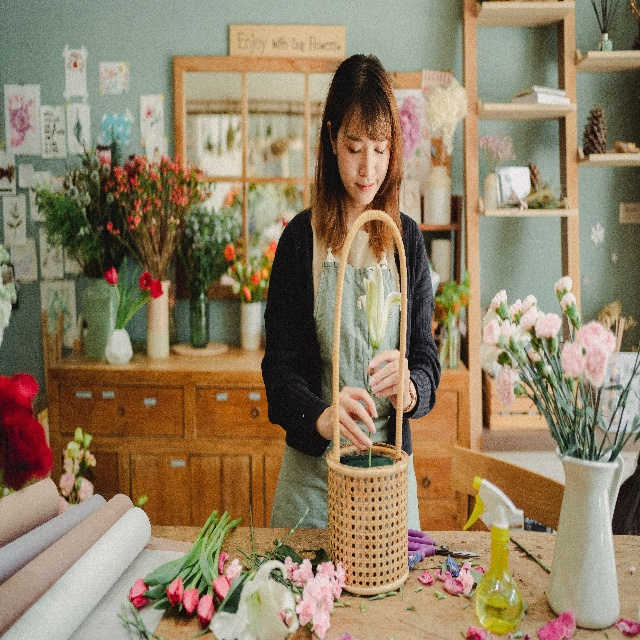Sin_guantes: (331, 385, 377, 453), (365, 347, 412, 413)
